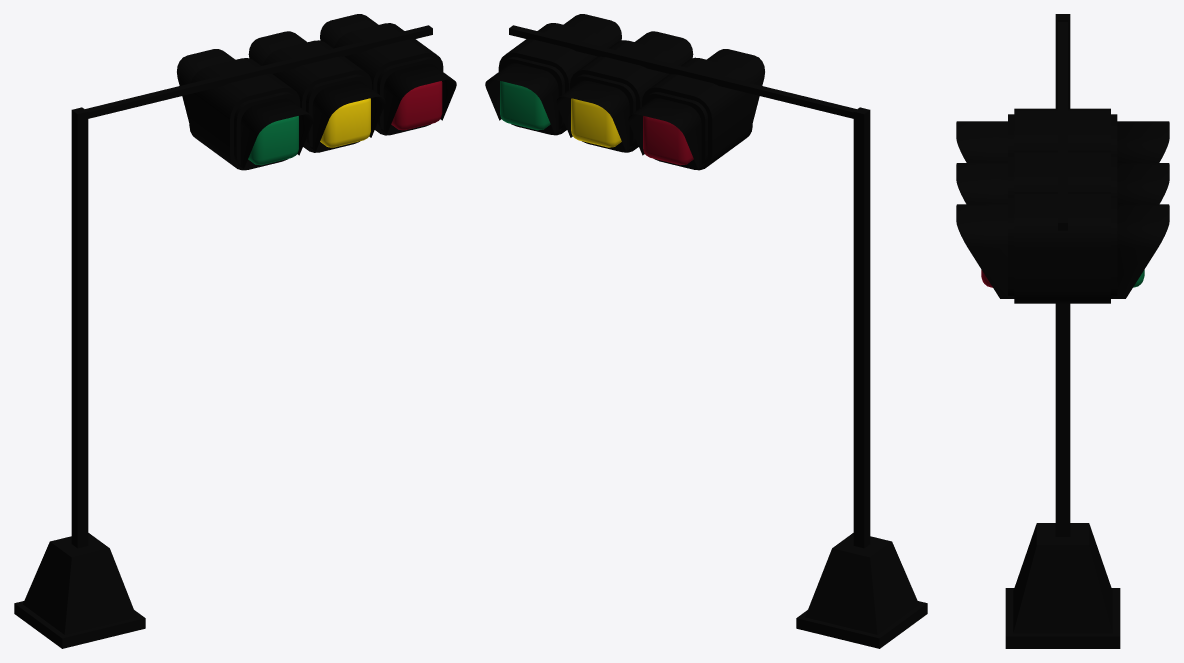
Rendered from 信号機.fbx.
3 views of the same model, side by side, from view 1: azimuth 30°, elevation 25°; view 2: azimuth 150°, elevation 25°; view 3: azimuth 270°, elevation 25° (orthographic). The views are drawn at different scales.
Parts seen in each view (by area): view 1: 立方体, 立方体.010, 立方体.007, 立方体.005, 立方体.008, 立方体.004, 立方体.001, 立方体.011, 立方体.012, 立方体.013; view 2: 立方体, 立方体.010, 立方体.007, 立方体.005, 立方体.008, 立方体.004, 立方体.001, 立方体.006, 立方体.009, 立方体.002; view 3: 立方体, 立方体.005, 立方体.001, 立方体.010, 立方体.007, 立方体.008, 立方体.004.
Part boxes in pixels (x1=…): 立方体: x1=14, y1=25, x2=432, y2=648; 立方体.010: x1=189, y1=58, x2=300, y2=170; 立方体.007: x1=262, y1=40, x2=372, y2=152; 立方体.005: x1=334, y1=23, x2=443, y2=135; 立方体.008: x1=177, y1=49, x2=313, y2=168; 立方体.004: x1=248, y1=31, x2=385, y2=151; 立方体.001: x1=320, y1=14, x2=456, y2=133; 立方体.011: x1=391, y1=81, x2=442, y2=130; 立方体.012: x1=320, y1=98, x2=370, y2=147; 立方体.013: x1=248, y1=116, x2=298, y2=165; 立方体: x1=509, y1=25, x2=927, y2=648; 立方体.010: x1=642, y1=57, x2=752, y2=170; 立方体.007: x1=570, y1=40, x2=679, y2=152; 立方体.005: x1=498, y1=23, x2=608, y2=135; 立方体.008: x1=628, y1=49, x2=764, y2=168; 立方体.004: x1=556, y1=31, x2=693, y2=151; 立方体.001: x1=485, y1=14, x2=621, y2=133; 立方体.006: x1=571, y1=98, x2=621, y2=147; 立方体.009: x1=643, y1=116, x2=693, y2=165; 立方体.002: x1=500, y1=81, x2=550, y2=130; 立方体: x1=1005, y1=14, x2=1120, y2=648; 立方体.005: x1=1008, y1=192, x2=1117, y2=303; 立方体.001: x1=956, y1=204, x2=1169, y2=298; 立方体.010: x1=1008, y1=108, x2=1117, y2=156; 立方体.007: x1=1008, y1=150, x2=1117, y2=197; 立方体.008: x1=956, y1=121, x2=1169, y2=162; 立方体.004: x1=956, y1=163, x2=1169, y2=204.
Bounding box in the file's own units: 85.3 × 106 × 33.71.
